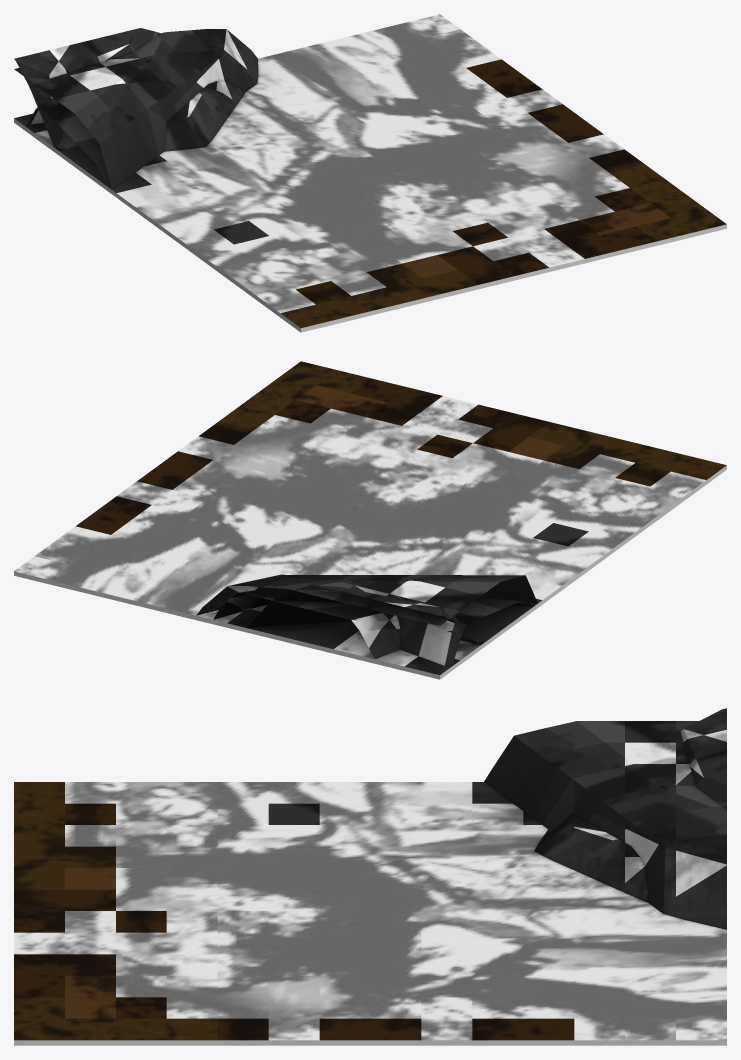
The model's file is newshe-43.glb.
The picture shows the model from 3 angles, top to bottom: view 1: azimuth 30°, elevation 25°; view 2: azimuth 150°, elevation 25°; view 3: azimuth 270°, elevation 25°; orthographic projection. The views are drawn at different scales.
Parts seen in each view (by area): view 1: newshe-43; view 2: newshe-43; view 3: newshe-43.
Part boxes in pixels (<box>): newshe-43: <box>14,14,726,332</box>; newshe-43: <box>14,361,726,679</box>; newshe-43: <box>14,708,726,1045</box>.
Bounding box in the file's own units: 2 × 0.2865 × 2.33.
10 materials, 10 textured.
